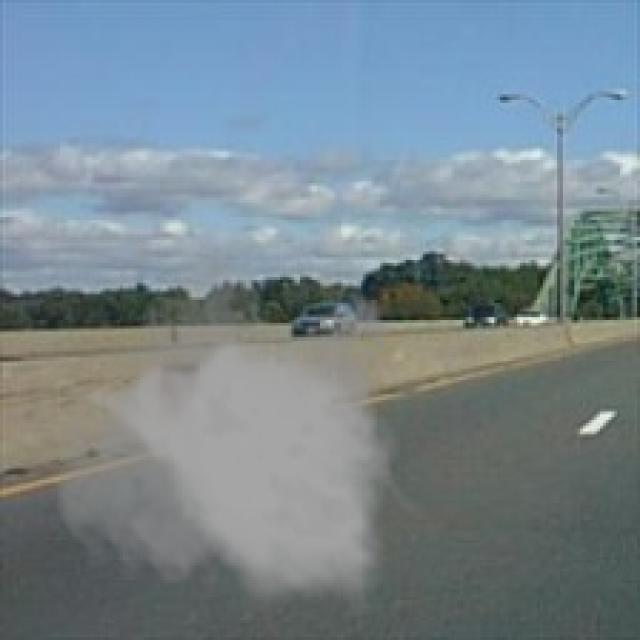smoke: (51, 255, 400, 614)
